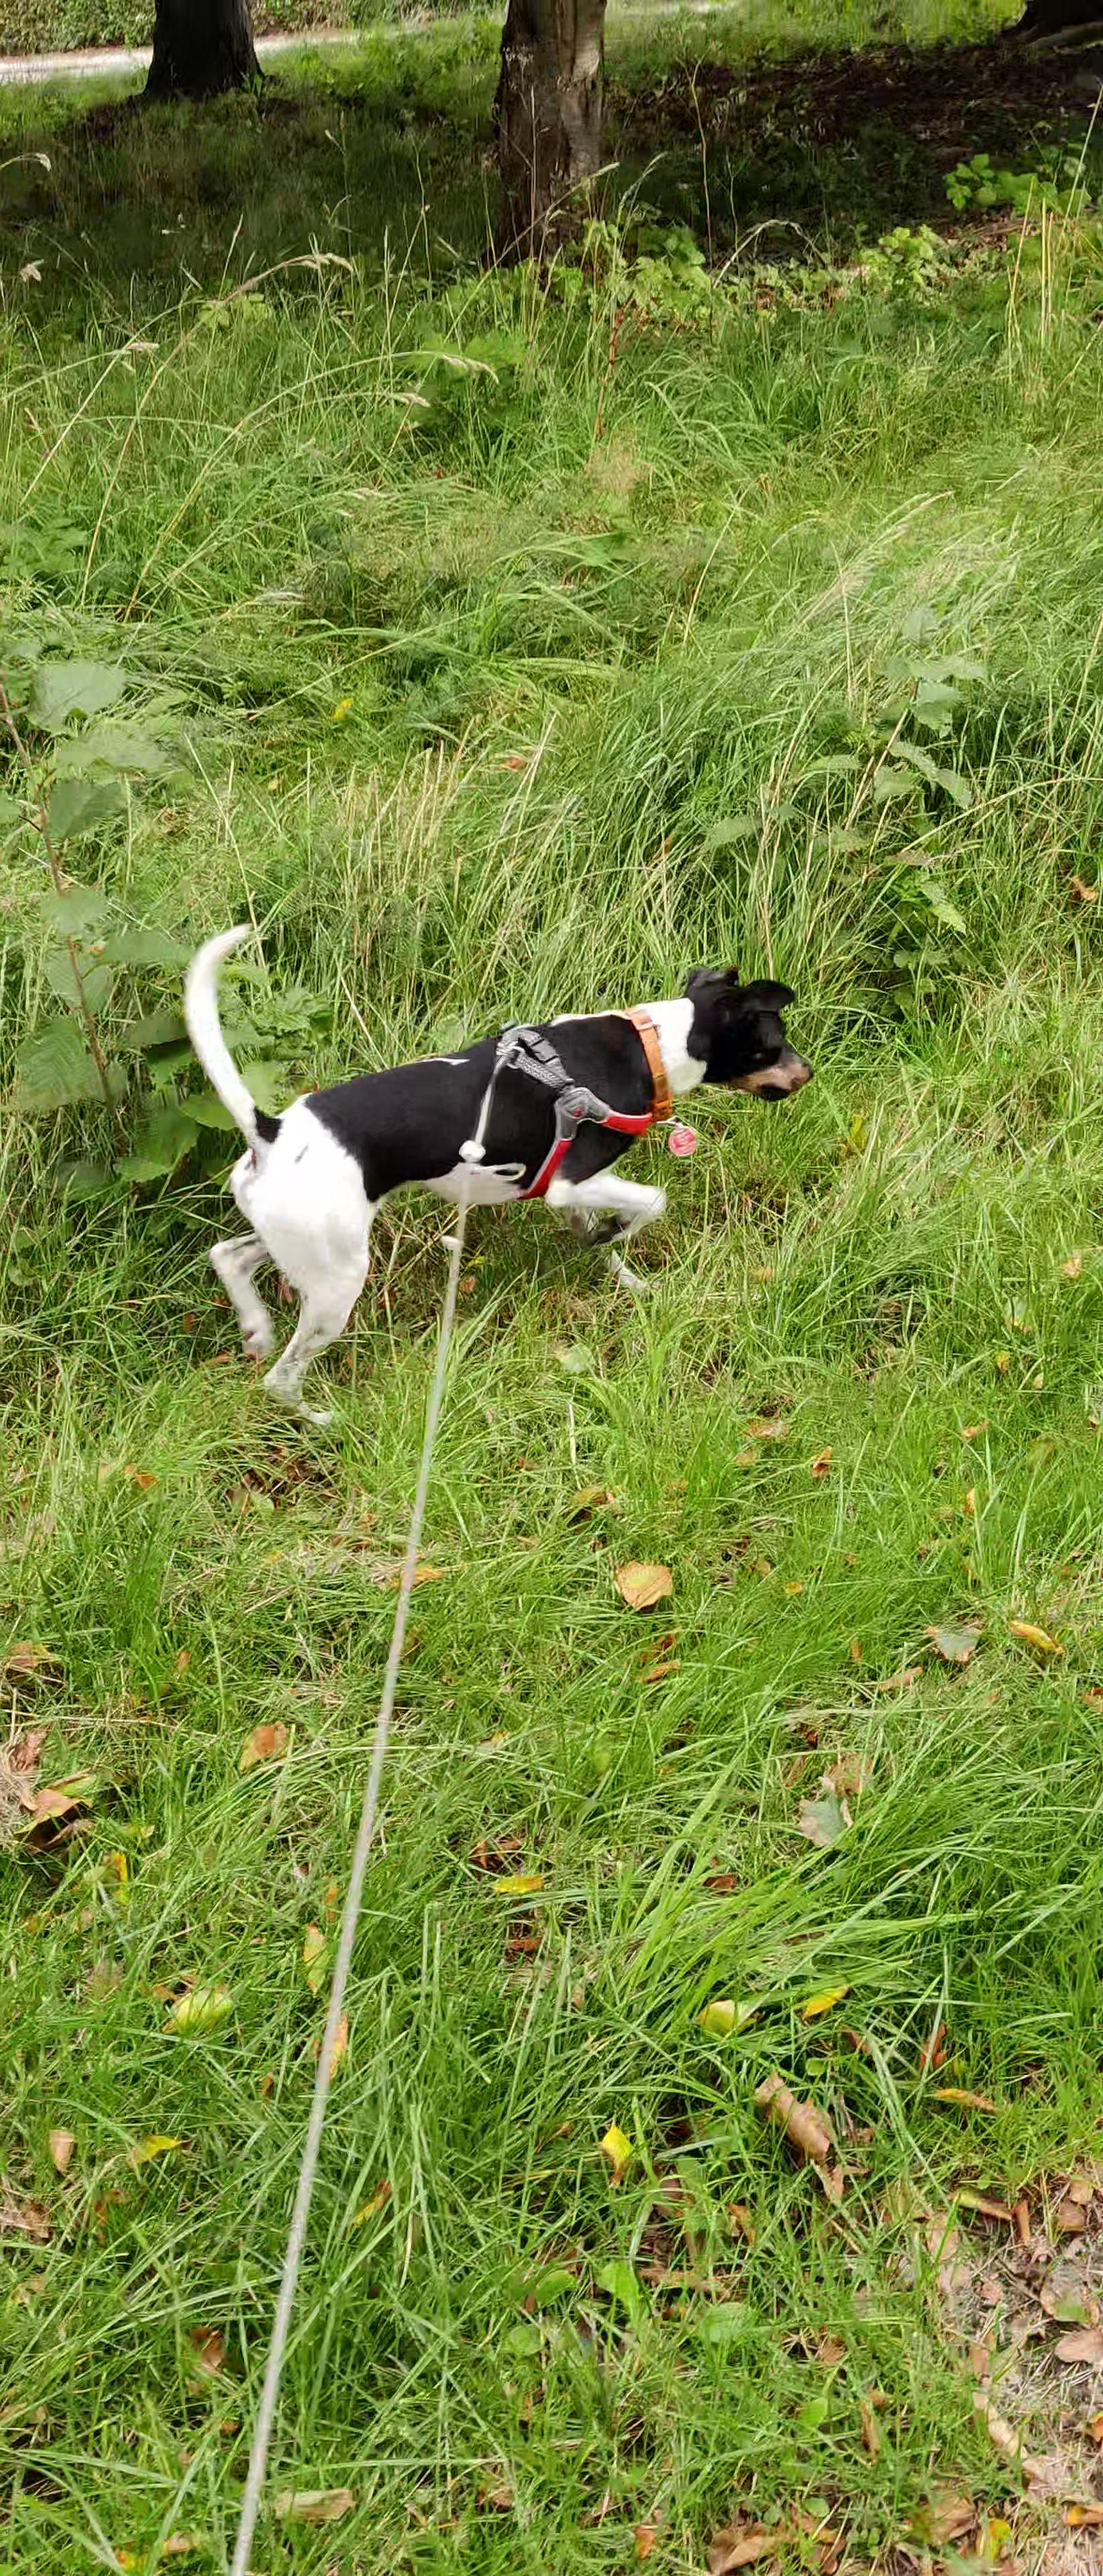Dog: (171, 915, 820, 1439)
